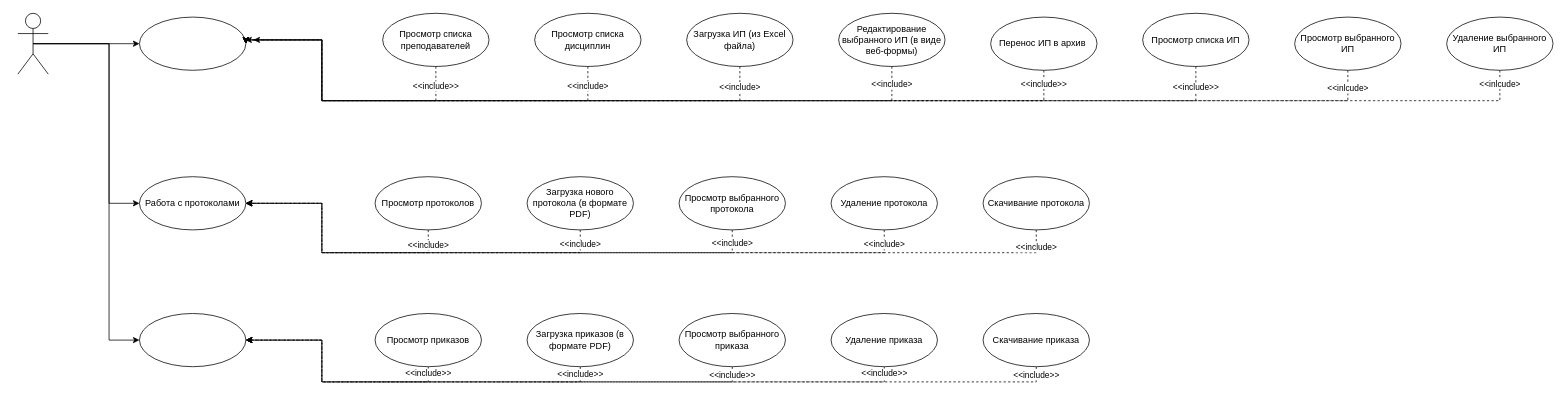
The diagram is 1566 pixels wide and 401 high, and some of its shapes have lost their labels. Each missing label, with the centre of its shape:
"Методист" goes at pixel 32 43.
"Работа с ИП" goes at pixel 192 43.
"Работа с приказами" goes at pixel 192 340.
